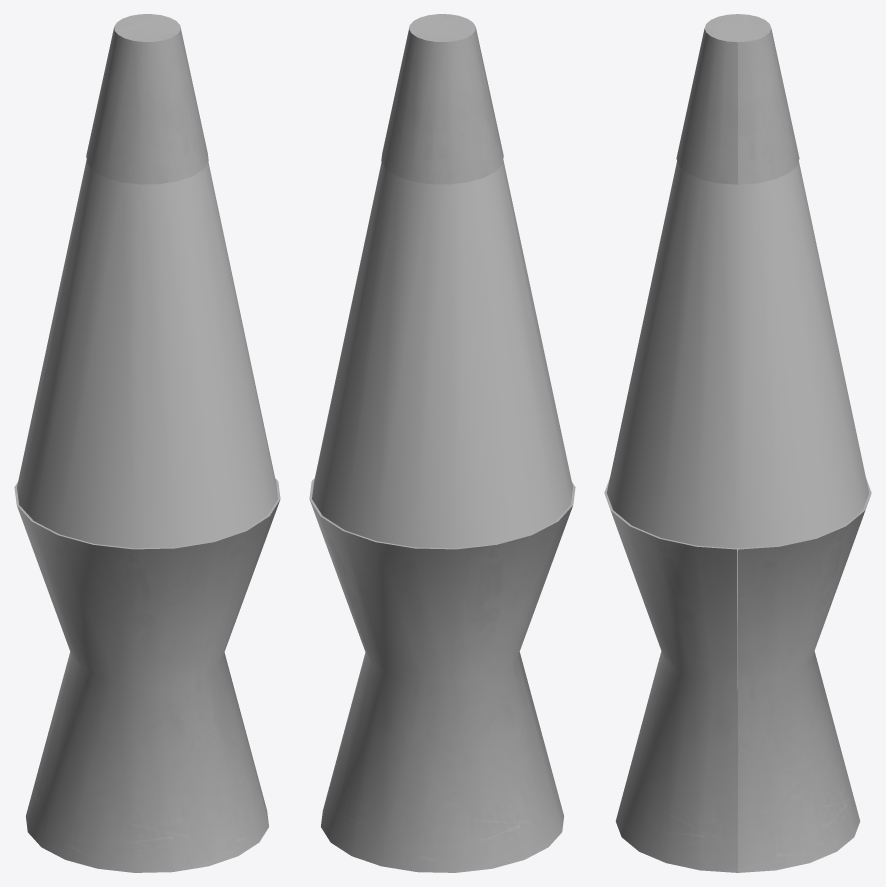
The model's file is SM_LavaLamp.fbx.
3 views of the same model, side by side, from view 1: azimuth 30°, elevation 25°; view 2: azimuth 150°, elevation 25°; view 3: azimuth 270°, elevation 25° (orthographic).
Parts seen in each view (by area): view 1: SM_LavaLamp_LOD0; view 2: SM_LavaLamp_LOD0; view 3: SM_LavaLamp_LOD0.
Part boxes in pixels (left/top/right/bottom): SM_LavaLamp_LOD0: left=14, top=14, right=280, bottom=872; SM_LavaLamp_LOD0: left=309, top=14, right=575, bottom=872; SM_LavaLamp_LOD0: left=604, top=14, right=871, bottom=872.
Bounding box in the file's own units: 10.94 × 10.94 × 35.79.
Materials: 2 (1 with a texture image).
